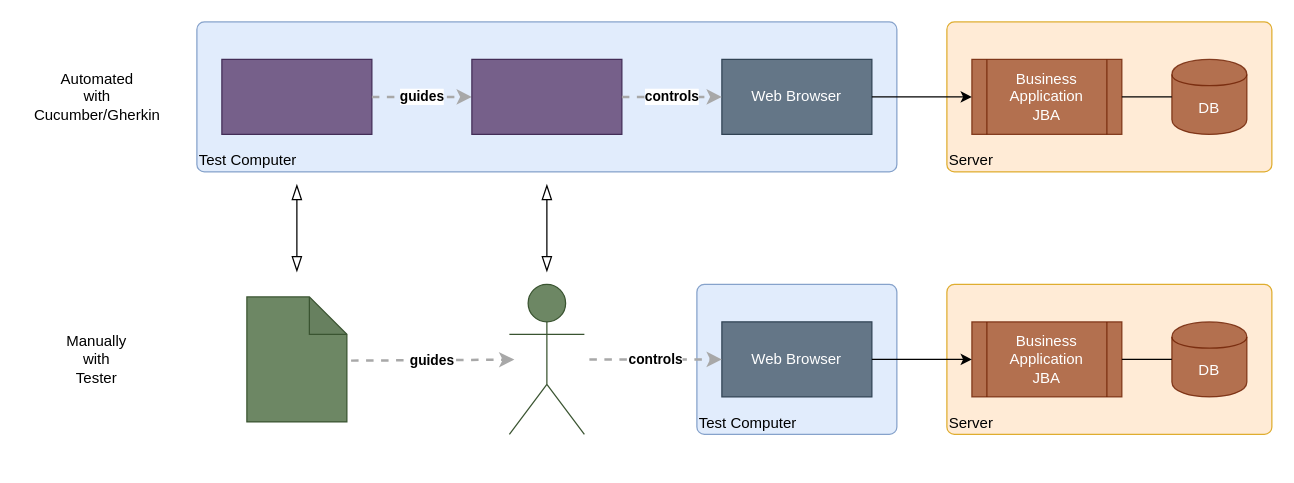
Image size: 1294x483. Some labels were removed from this diagram. Each missing label, with the centre of its shape:
Feature File: (x=296, y=96)
Glue Code: (x=546, y=96)
Test Script: (x=296, y=359)
